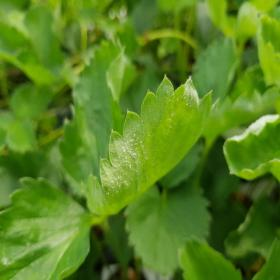Powdery Mildew Leaf: (81, 73, 221, 217), (222, 114, 279, 181)
